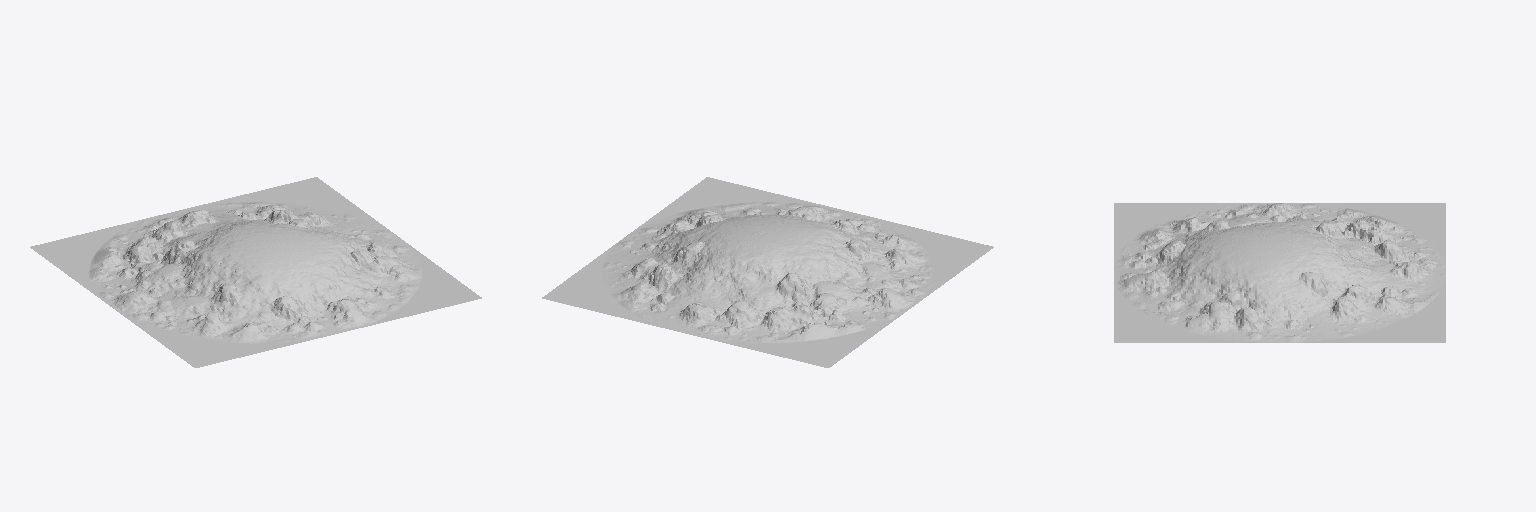
Rendered from terrain.obj.
3 renders of one model, left to right at view 1: azimuth 30°, elevation 25°; view 2: azimuth 150°, elevation 25°; view 3: azimuth 270°, elevation 25°, orthographic.
Parts seen in each view (by area): view 1: Terrain_1; view 2: Terrain_1; view 3: Terrain_1.
Part boxes in pixels (bbox=[...]): Terrain_1: bbox=[30, 177, 481, 367]; Terrain_1: bbox=[542, 177, 993, 367]; Terrain_1: bbox=[1114, 203, 1445, 342].
Bounding box in the file's own units: 1094 × 121 × 1094.